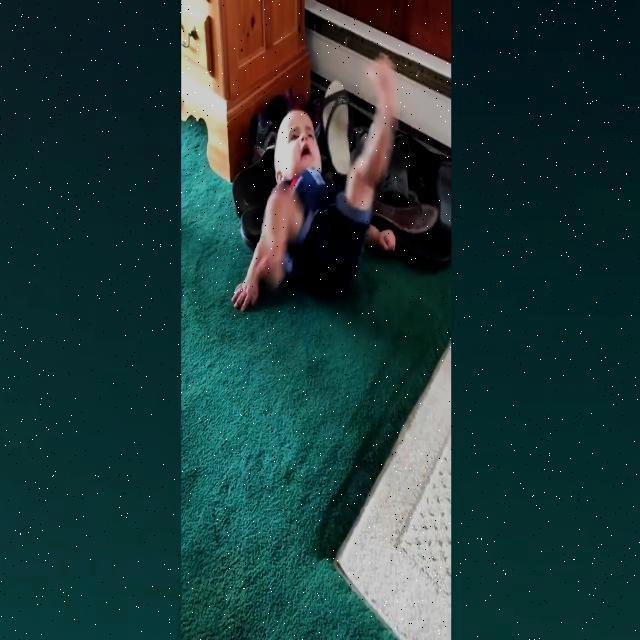child: (232, 52, 397, 317)
